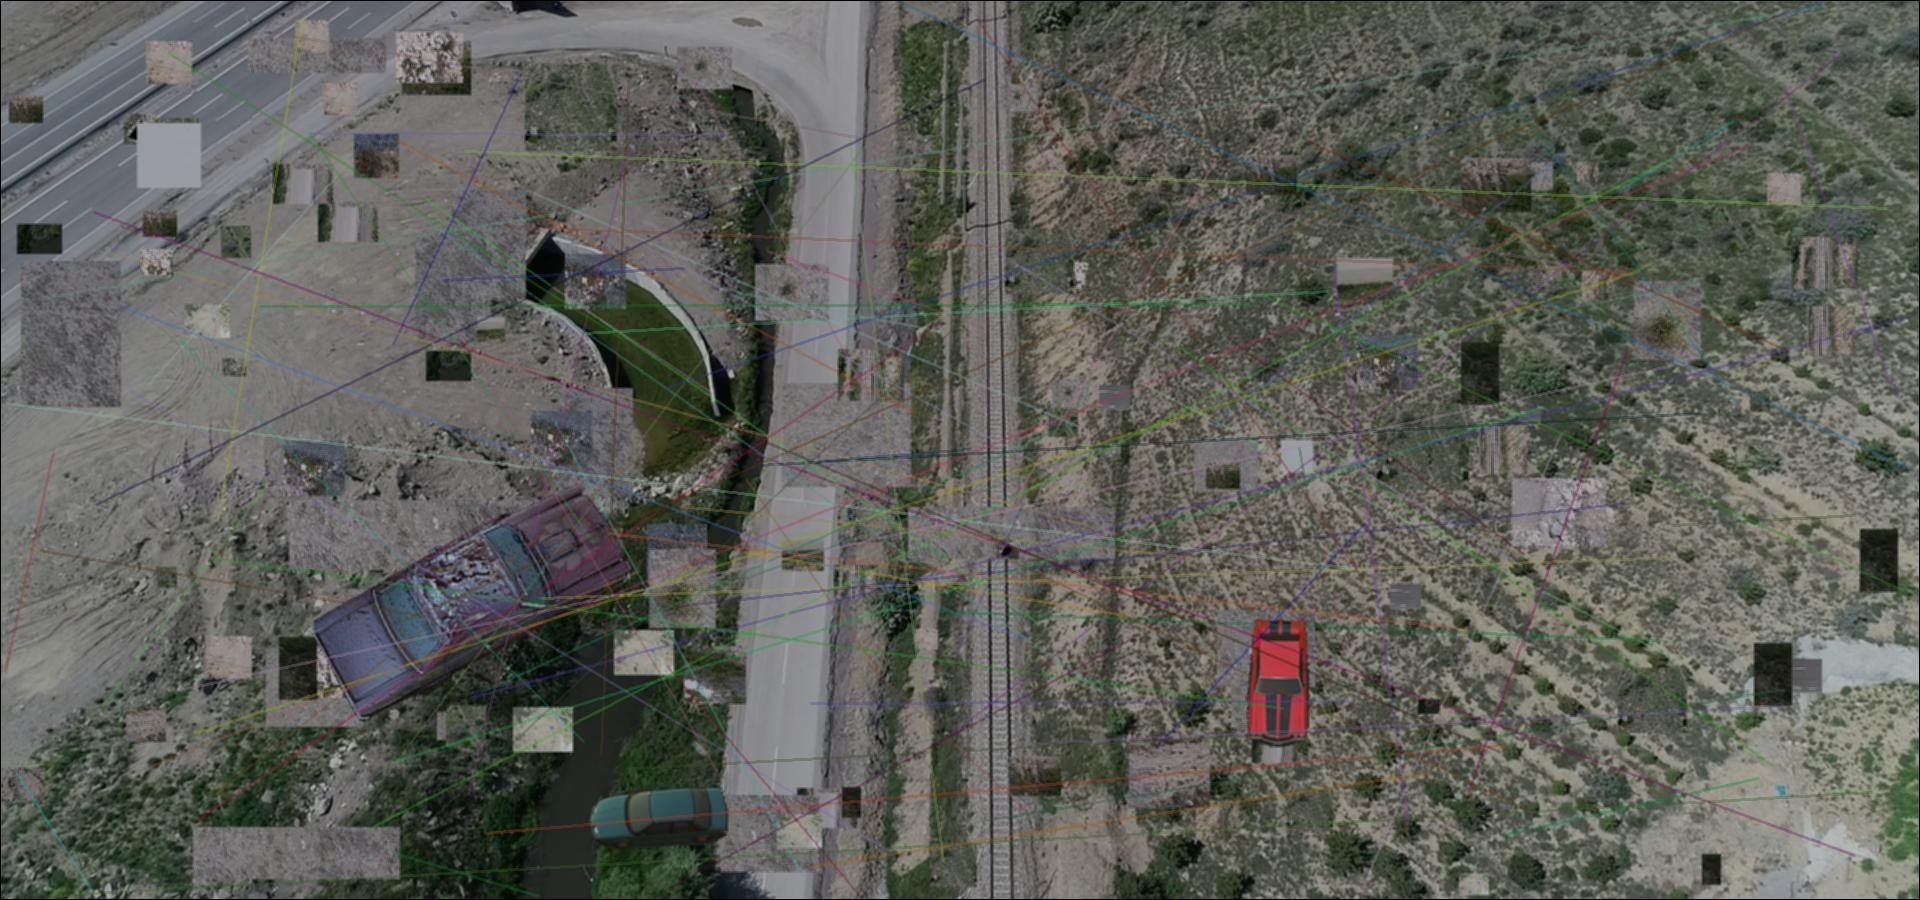arac: (313, 471, 632, 721), (1239, 615, 1318, 747), (585, 784, 729, 849)
